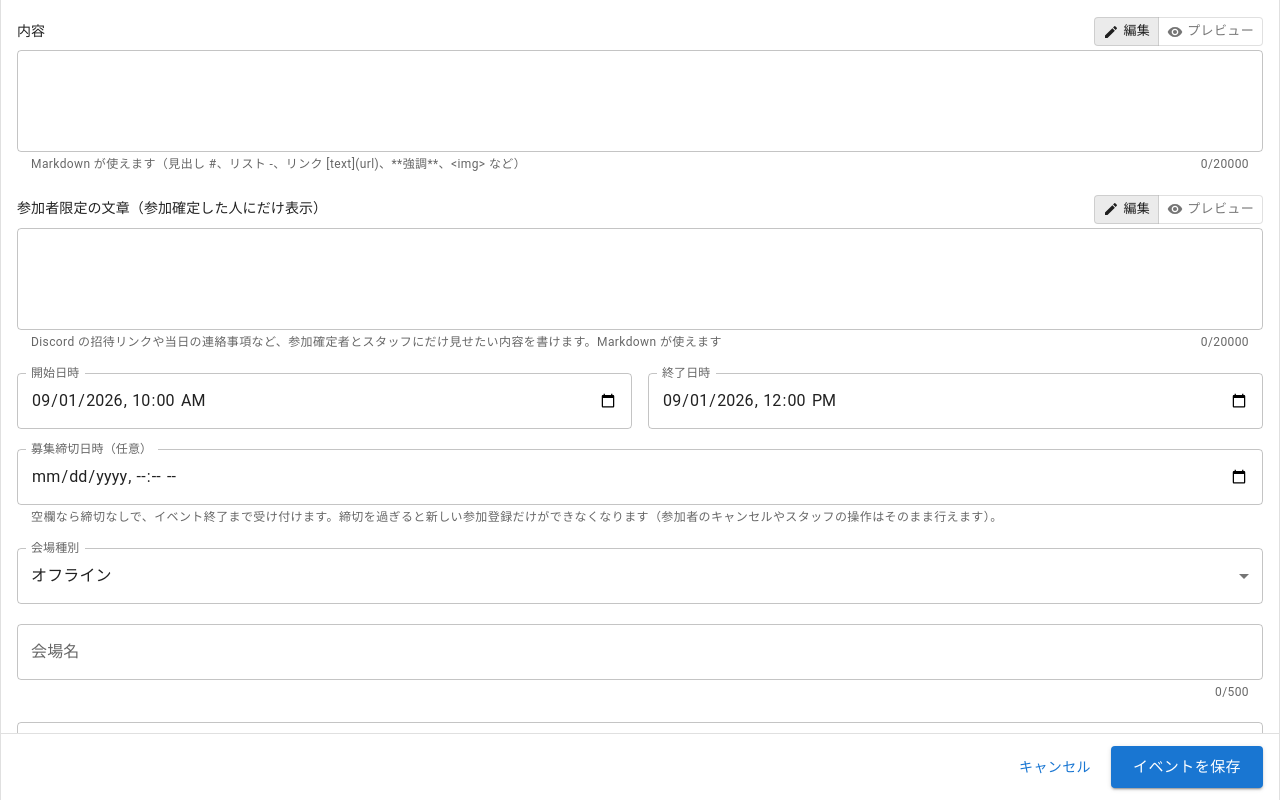
it: イベント編集の日時順序の警告 (#399) › 終了を開始より前にすると警告が出て保存ボタンが無効になる
This screenshot has width=1280, height=800.
(page scrolled)
Replace the text in the field labelled "終了日時" with "2026-09-01T09:00" at (956,401), box [648,373,1263,429]
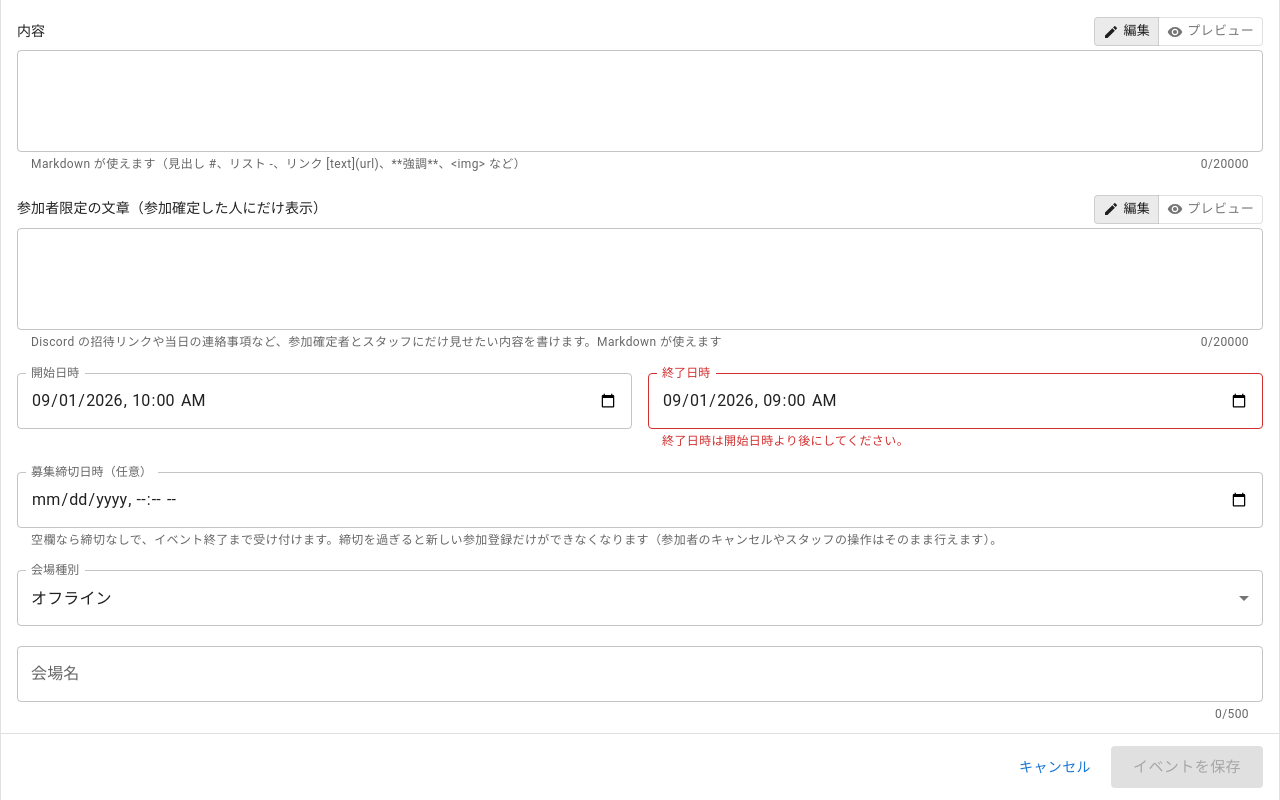
Now the text "終了日時は開始日時より後にしてください。" is shown, box [662,434,909,448]
Now the button "イベントを保存" is disabled, box [1111,746,1263,788]
